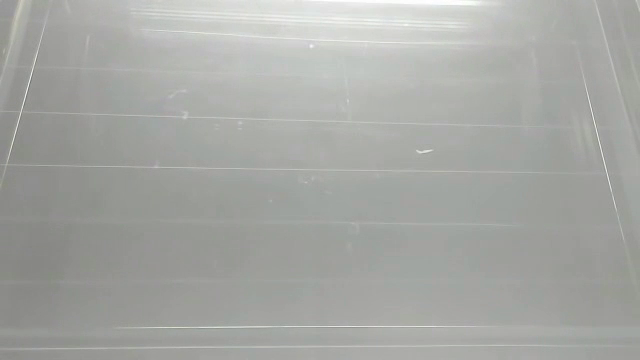alpha: (411, 144, 444, 159)
